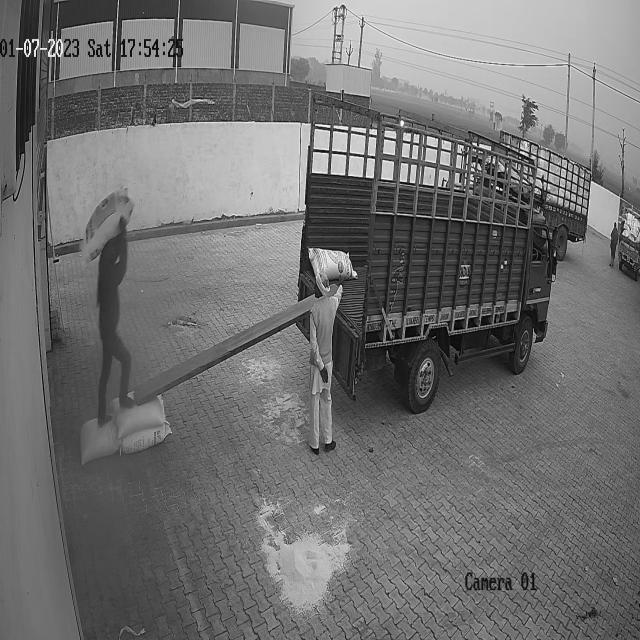sack: (83, 191, 134, 264), (110, 392, 165, 436), (79, 416, 119, 464), (308, 246, 357, 283), (119, 422, 171, 454)
